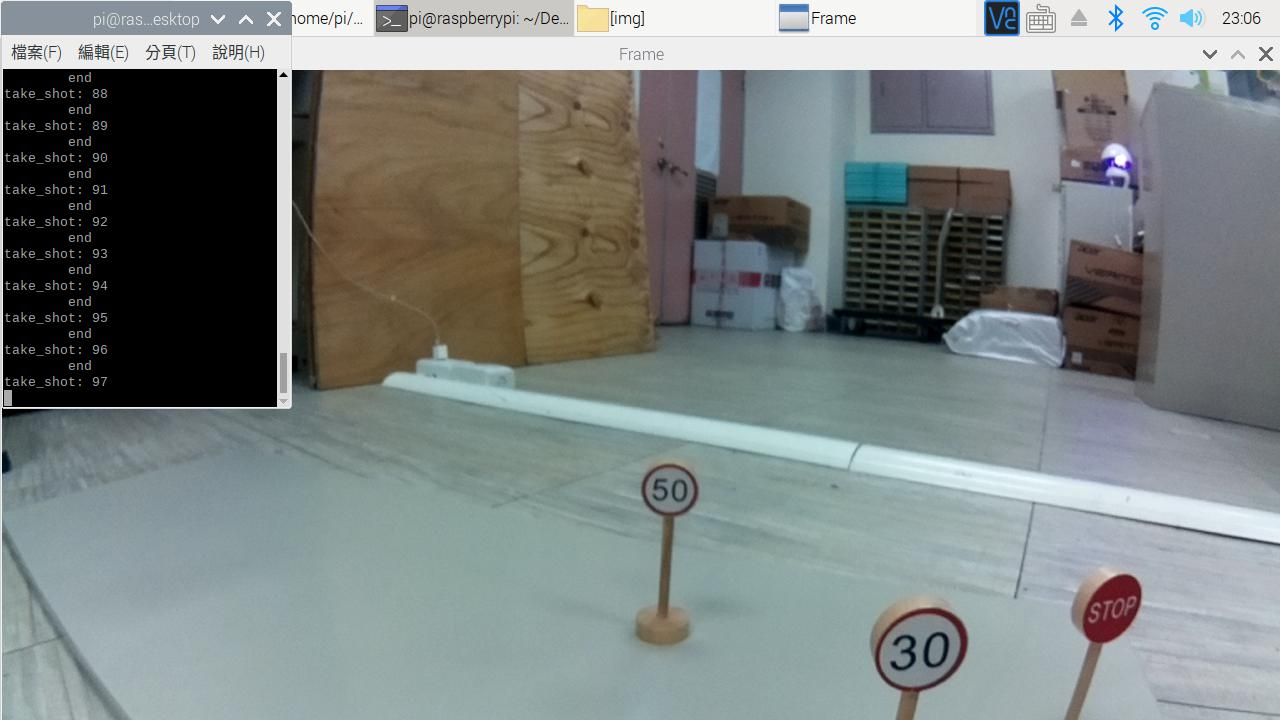Speed30: (865, 609, 969, 694)
Speed50: (639, 460, 709, 519)
Stop: (1068, 565, 1145, 654)
